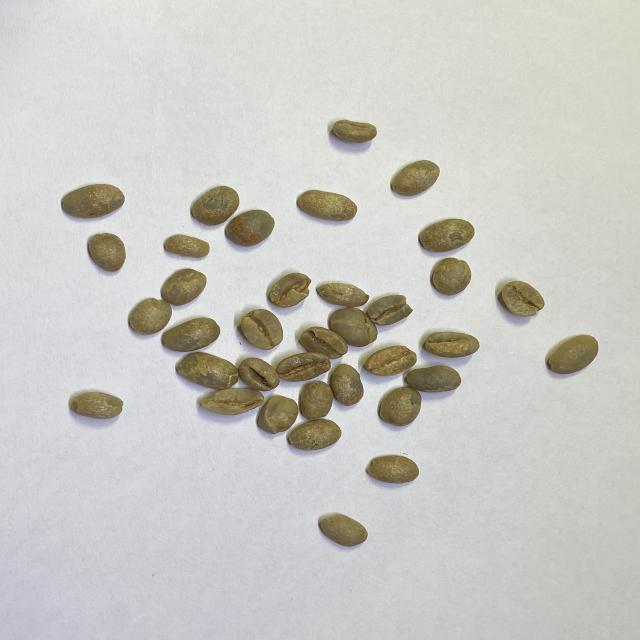bad: (201, 389, 265, 416), (267, 271, 312, 306), (367, 293, 412, 326), (317, 282, 369, 306)
good: (60, 182, 125, 221), (176, 352, 239, 390), (544, 334, 600, 374), (296, 188, 358, 222), (188, 185, 240, 225), (417, 218, 475, 253), (328, 307, 378, 347), (162, 317, 220, 351), (390, 159, 440, 197), (226, 209, 275, 246), (240, 310, 284, 349), (127, 296, 171, 334), (378, 386, 422, 424), (161, 268, 206, 305), (276, 352, 331, 382), (287, 420, 342, 450), (365, 454, 420, 484), (70, 390, 124, 420), (258, 394, 298, 434), (430, 258, 472, 296), (502, 281, 546, 317), (88, 232, 126, 273), (329, 362, 364, 406), (363, 346, 418, 374), (301, 328, 349, 358), (425, 331, 480, 357), (238, 358, 280, 392), (404, 367, 461, 392), (298, 381, 334, 419), (163, 233, 210, 259), (332, 120, 378, 144)
